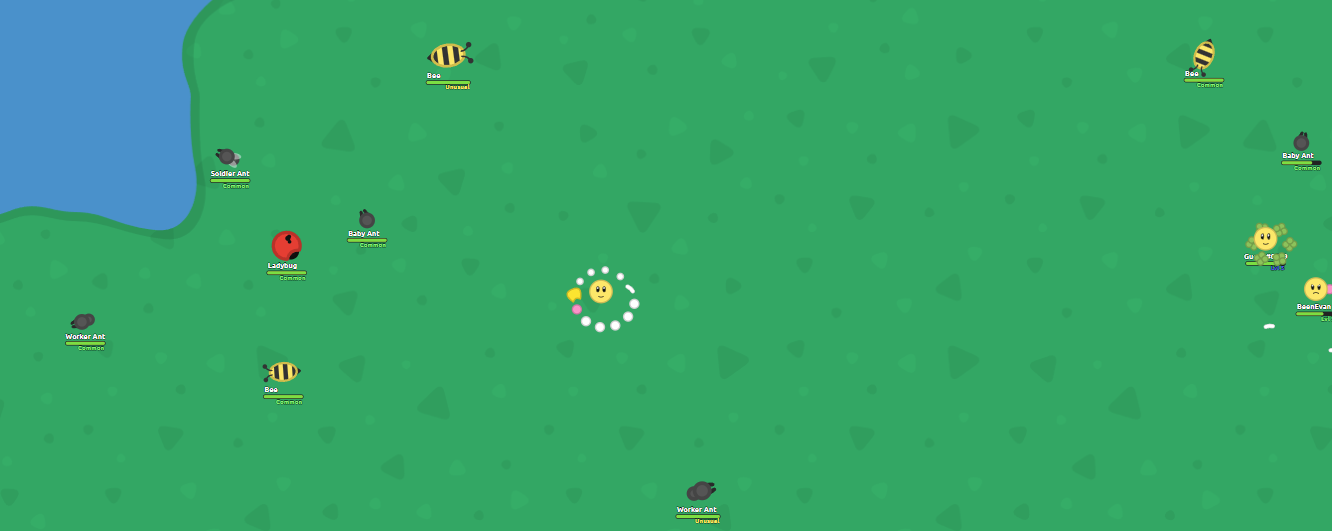Baby Ant: (356, 207, 377, 229), (1292, 130, 1313, 151)
Bee: (425, 43, 470, 70), (1191, 37, 1216, 72), (267, 361, 302, 383)
Ladybug: (270, 231, 302, 263)
Soldier Ant: (214, 146, 244, 169)
Worker Ant: (685, 480, 717, 502), (69, 312, 97, 330)
